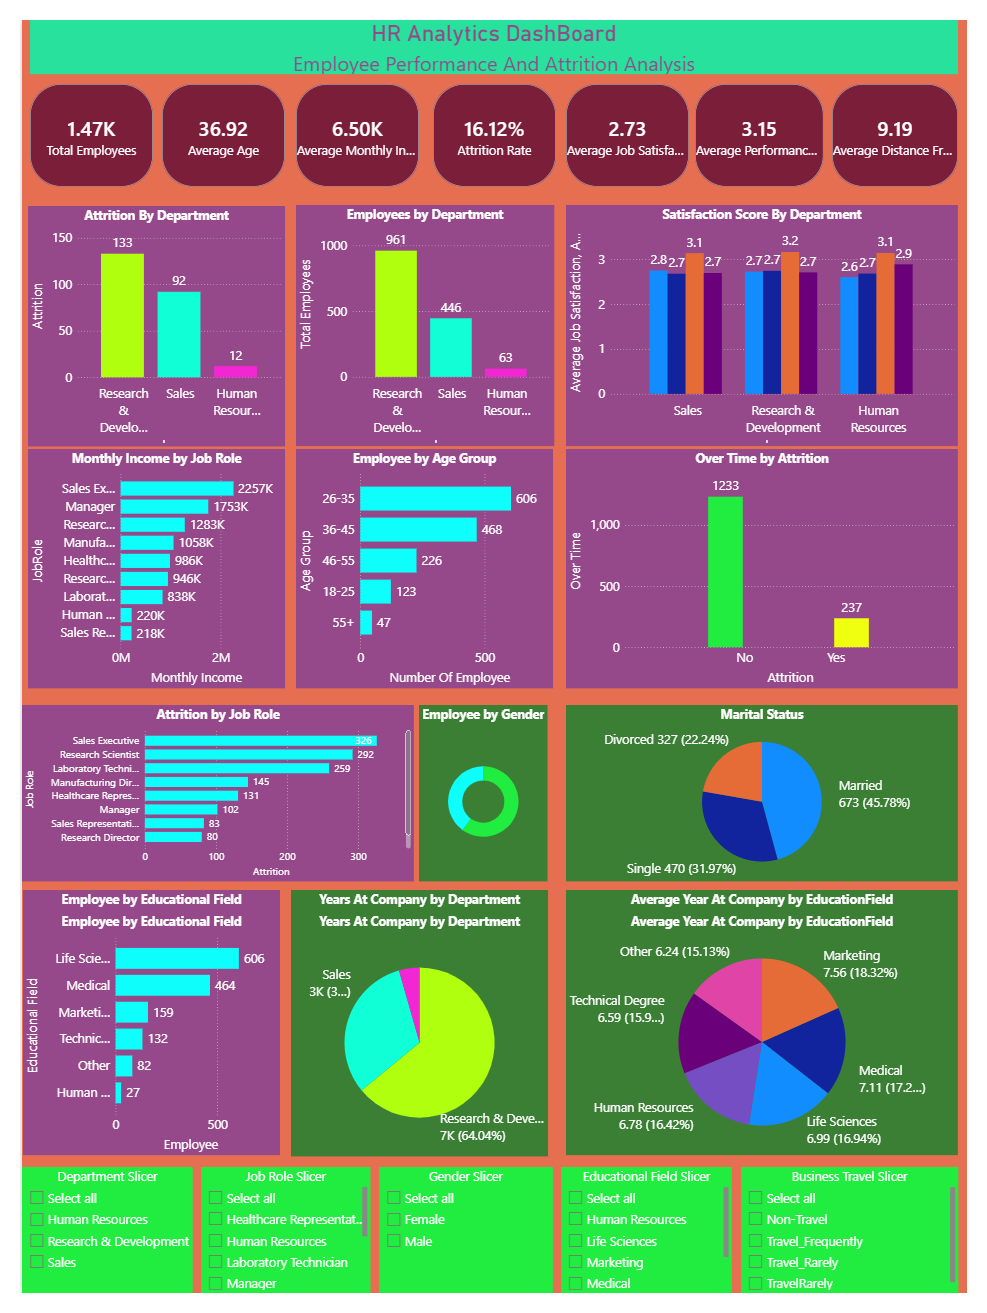

Layout of this report page (visuals, bound fields, positions):
{"tool":"powerbi","page":{"name":"Page 1","canvas":[1500,2000],"ordinal":0},"visuals":[{"type":"cardVisual","fields":{"Data":["HR_Analytics.Attrition Rate"]},"box":[653.1,102,195.9,163.3],"z":0},{"type":"clusteredColumnChart","title":"Employees by Department","fields":{"Category":["HR_Analytics.Department"],"Y":["HR_Analytics.Total Employees"]},"box":[434.9,293.7,409.5,396.8],"z":1000},{"type":"cardVisual","fields":{"Data":["HR_Analytics.Total Employees"]},"box":[12.2,102,195.9,163.3],"z":2000},{"type":"cardVisual","fields":{"Data":["HR_Analytics.Average Monthly Income"]},"box":[434.7,102,195.9,163.3],"z":3000},{"type":"cardVisual","fields":{"Data":["HR_Analytics.Average Age"]},"box":[222.4,102,195.9,163.3],"z":4000},{"type":"textbox","title":"HR Analytics DashBoard","box":[12.7,0,1473,85.7],"z":5000},{"type":"clusteredColumnChart","title":"Satisfaction Score By Department","fields":{"Category":["HR_Analytics.Department"],"Y":["HR_Analytics.Average Job Satisfaction","HR_Analytics.Average Environmental Satisfaction","HR_Analytics.Average Performance Rating","HR_Analytics.Average Relationship Satisfaction"]},"box":[863.5,293.7,622.2,396.8],"z":6000},{"type":"clusteredColumnChart","title":"Attrition By Department","fields":{"Category":["HR_Analytics.Department"],"Y":["HR_Analytics.Employee Left"]},"box":[10.2,295.9,408.2,395.9],"z":7000},{"type":"donutChart","title":"Employee by Gender","fields":{"Y":["Sum(HR_Analytics.EmployeeCount)"],"Category":["HR_Analytics.Gender"]},"box":[630.6,1102,204.1,279.6],"z":8000},{"type":"clusteredBarChart","title":"Attrition by Job Role","fields":{"Category":["HR_Analytics.JobRole"],"Y":["CountNonNull(HR_Analytics.Attrition)"]},"box":[0,1102,622.4,279.6],"z":10000},{"type":"clusteredBarChart","title":"Monthly Income by Job Role","fields":{"Y":["Sum(HR_Analytics.MonthlyIncome)"],"Category":["HR_Analytics.JobRole"]},"box":[10.2,695.9,408.2,379.6],"z":11000},{"type":"clusteredBarChart","title":"Employee by Age Group","fields":{"Y":["Sum(HR_Analytics.EmployeeCount)"],"Category":["HR_Analytics.AgeGroup"]},"box":[434.7,695.9,408.2,379.6],"z":12000},{"type":"clusteredColumnChart","title":"Over Time by Attrition ","fields":{"Y":["CountNonNull(HR_Analytics.OverTime)"],"Series":["HR_Analytics.Attrition"],"Category":["HR_Analytics.Attrition"]},"box":[863.3,695.9,622.4,379.6],"z":13000},{"type":"clusteredBarChart","title":"Employee by Educational Field","fields":{"Category":["HR_Analytics.EducationField"],"Y":["Sum(HR_Analytics.EmployeeCount)"]},"box":[2,1395.9,408.2,385.7],"z":14000},{"type":"pieChart","title":"Years At Company by Department","fields":{"Category":["HR_Analytics.Department"],"Y":["Sum(HR_Analytics.YearsAtCompany)"]},"box":[426.5,1395.9,408.2,387.8],"z":15000},{"type":"slicer","title":"Educational Field Slicer","fields":{"Values":["HR_Analytics.EducationField"]},"box":[855.1,1800,271.4,200],"z":16000},{"type":"slicer","title":"Business Travel Slicer","fields":{"Values":["HR_Analytics.BusinessTravel"]},"box":[1140.8,1800,344.9,200],"z":17000},{"type":"slicer","title":"Gender Slicer","fields":{"Values":["HR_Analytics.Gender"]},"box":[567.3,1800,275.5,200],"z":18000},{"type":"slicer","title":"Department Slicer","fields":{"Values":["HR_Analytics.Department"]},"box":[0,1800,271.4,200],"z":19000},{"type":"slicer","title":"Job Role Slicer","fields":{"Values":["HR_Analytics.JobRole"]},"box":[283.7,1800,269.4,200],"z":20000},{"type":"cardVisual","fields":{"Data":["HR_Analytics.Average Performance Rating"]},"box":[1068.3,101.6,204.8,163.5],"z":21000},{"type":"cardVisual","fields":{"Data":["HR_Analytics.Average Job Satisfaction"]},"box":[863.5,101.6,195.2,163.5],"z":22000},{"type":"pieChart","title":"Marital Status","fields":{"Y":["CountNonNull(HR_Analytics.MaritalStatus)"],"Category":["HR_Analytics.MaritalStatus"]},"box":[863,1102,622,280],"z":23000},{"type":"pieChart","fields":{"Y":["HR_Analytics.Average Year At Company"],"Category":["HR_Analytics.EducationField"]},"box":[863.5,1395.2,622.2,385.7],"z":24000},{"type":"cardVisual","fields":{"Data":["HR_Analytics.Average Distance"]},"box":[1285.7,101.6,200,163.5],"z":25000}]}

Visuals, with their boxes in screenshot pixels (x1, y1, x2, y2), scaled from the page's 1500x2000 canvas onto the 987x1313 screenshot:
cardVisual - HR_Analytics.Attrition Rate: 430 67 559 174
"Employees by Department" clusteredColumnChart: 286 193 556 453
cardVisual - HR_Analytics.Total Employees: 8 67 137 174
cardVisual - HR_Analytics.Average Monthly Income: 286 67 415 174
cardVisual - HR_Analytics.Average Age: 146 67 275 174
"HR Analytics DashBoard" textbox: 8 0 978 56
"Satisfaction Score By Department" clusteredColumnChart: 568 193 978 453
"Attrition By Department" clusteredColumnChart: 7 194 275 454
"Employee by Gender" donutChart: 415 723 549 907
"Attrition by Job Role" clusteredBarChart: 0 723 410 907
"Monthly Income by Job Role" clusteredBarChart: 7 457 275 706
"Employee by Age Group" clusteredBarChart: 286 457 555 706
"Over Time by Attrition " clusteredColumnChart: 568 457 978 706
"Employee by Educational Field" clusteredBarChart: 1 916 270 1170
"Years At Company by Department" pieChart: 281 916 549 1171
"Educational Field Slicer" slicer: 563 1182 741 1312
"Business Travel Slicer" slicer: 751 1182 978 1312
"Gender Slicer" slicer: 373 1182 555 1312
"Department Slicer" slicer: 0 1182 179 1312
"Job Role Slicer" slicer: 187 1182 364 1312
cardVisual - HR_Analytics.Average Performance Rating: 703 67 838 174
cardVisual - HR_Analytics.Average Job Satisfaction: 568 67 697 174
"Marital Status" pieChart: 568 723 977 907
pieChart - HR_Analytics.Average Year At Company x HR_Analytics.EducationField: 568 916 978 1169
cardVisual - HR_Analytics.Average Distance: 846 67 978 174
